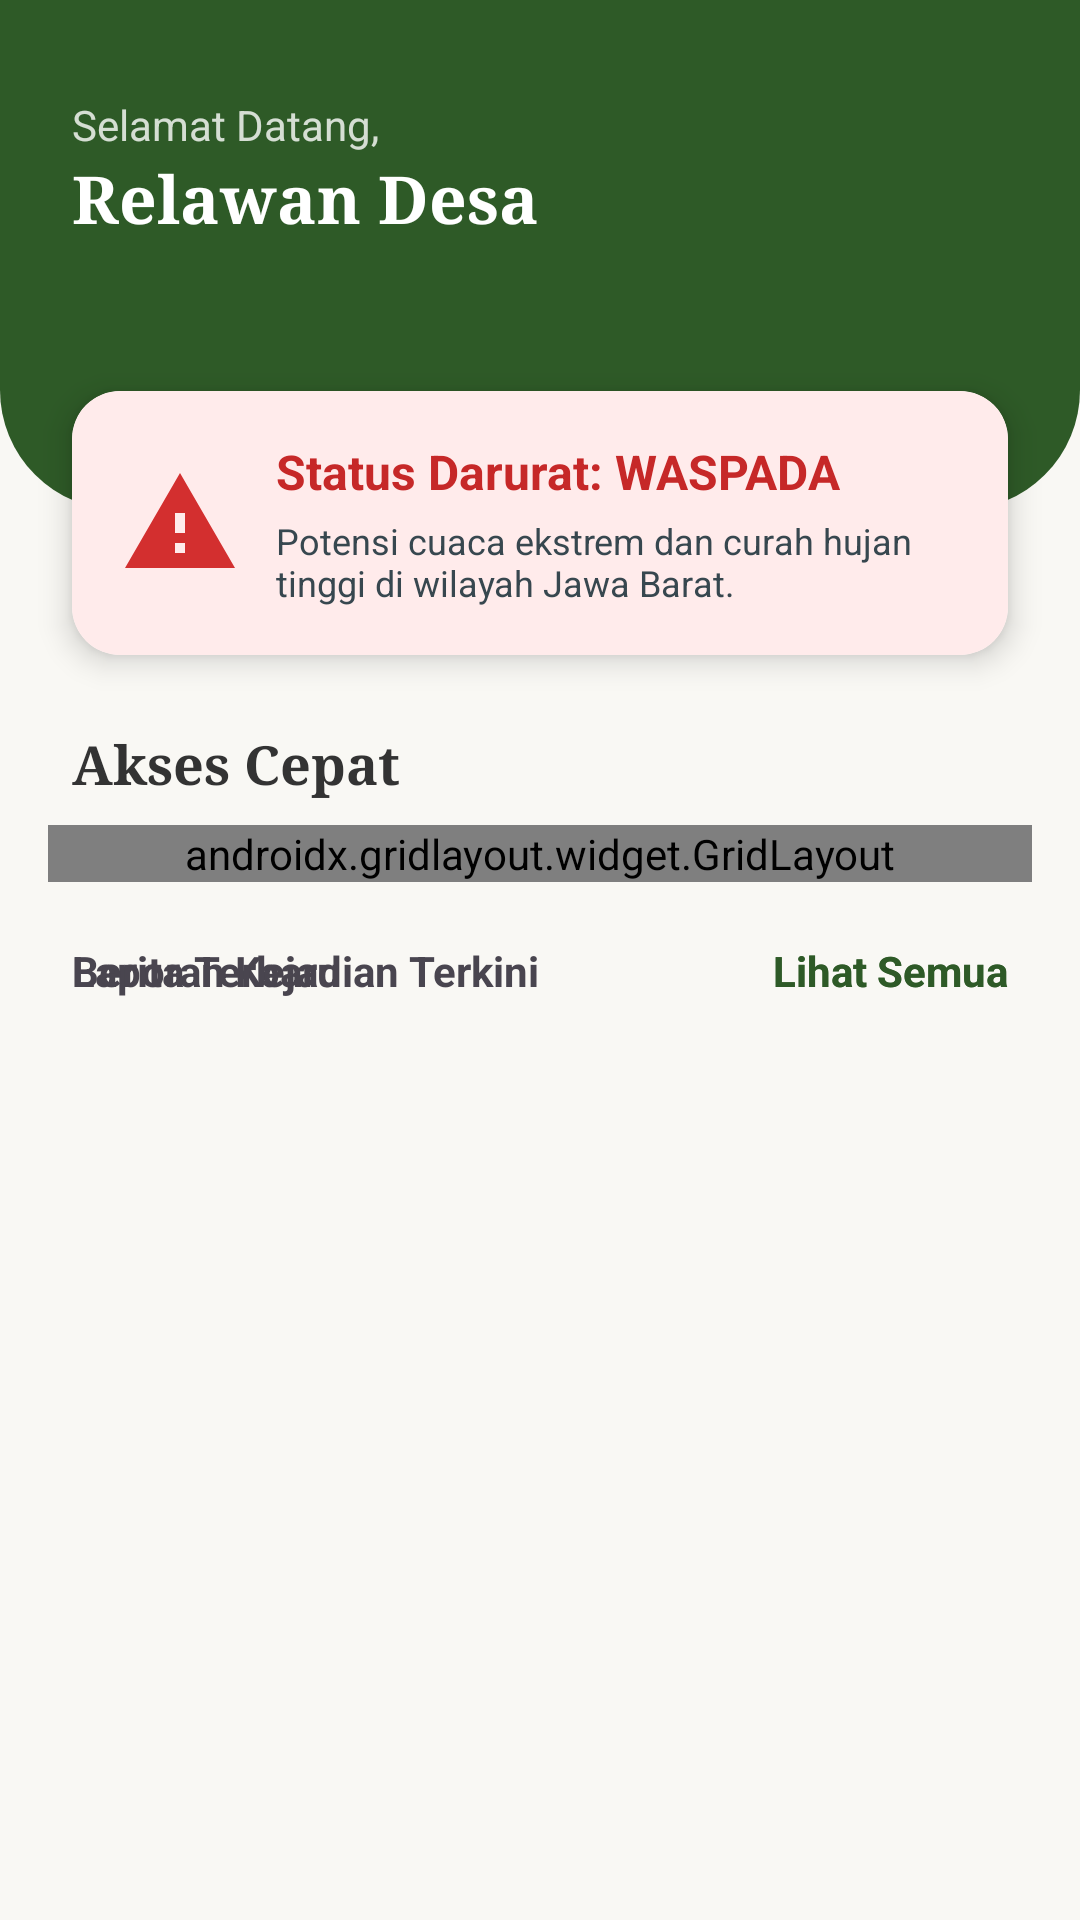

Where icons sit on this 1080×1920 app screen, as (x1, y1, x2, y2):
warning: (125, 473, 235, 568)
